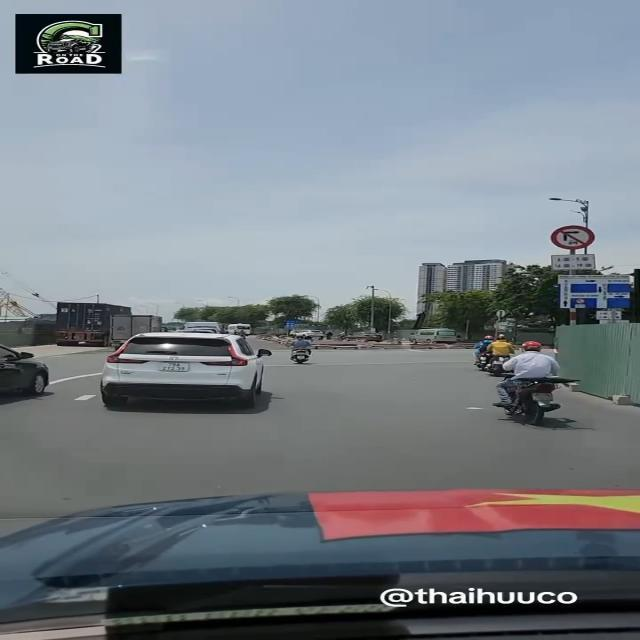123b-cam-re-phai: (548, 226, 596, 250)
